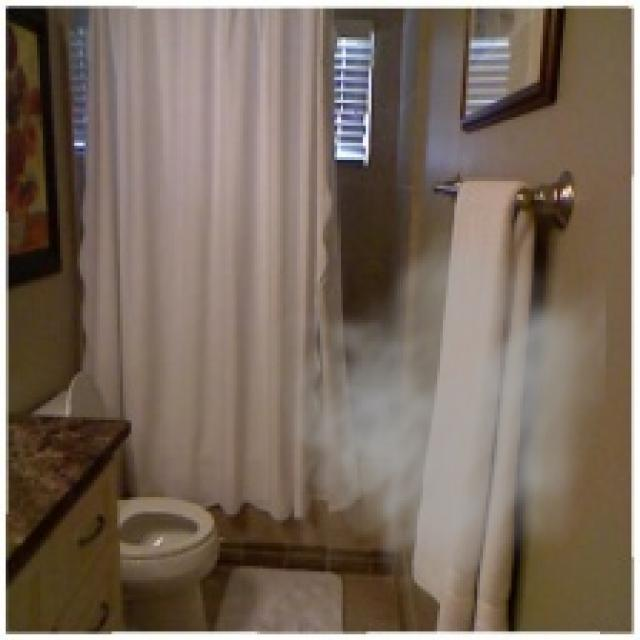smoke: (251, 212, 606, 617)
